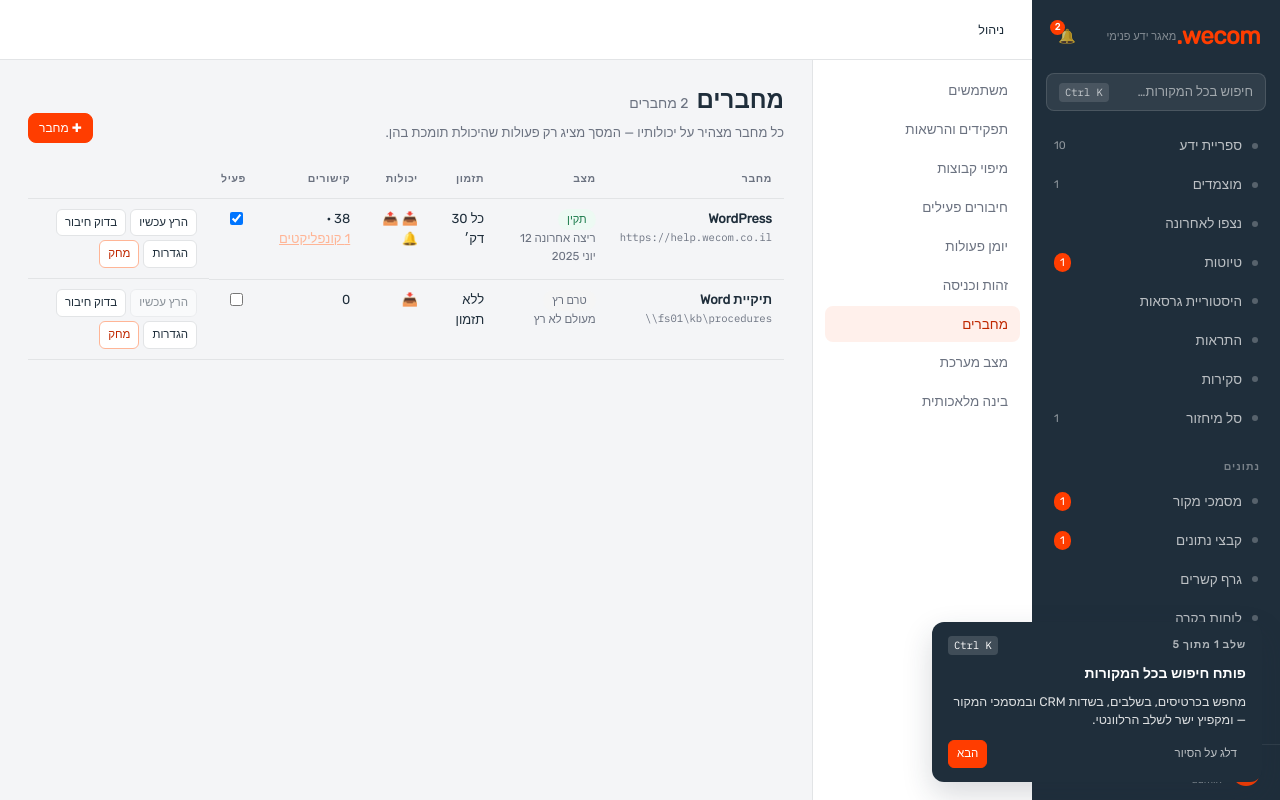
Test case: admin · connector registry › surfaces a run that came back with errors as a warning, not a success
Click the button "הרץ עכשיו" in the row of "WordPress" at [164, 222], box [130,209,197,236]
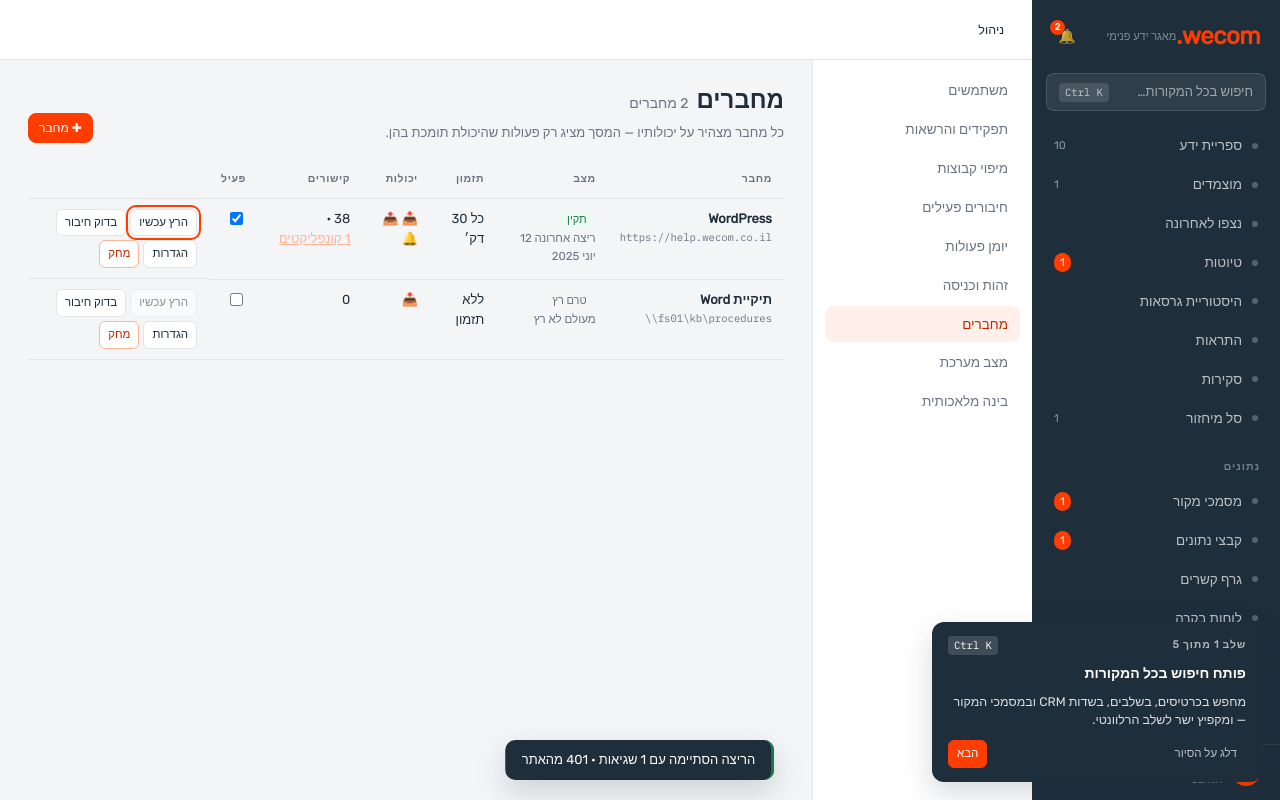
Check: the text "הריצה הסתיימה עם 1 שגיאות · 401 מהאתר" is shown, box [522,750,755,770]
